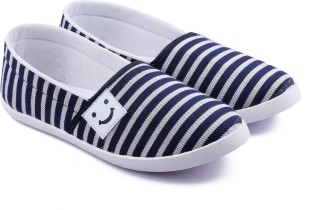Shoes: (0, 15, 261, 190)
